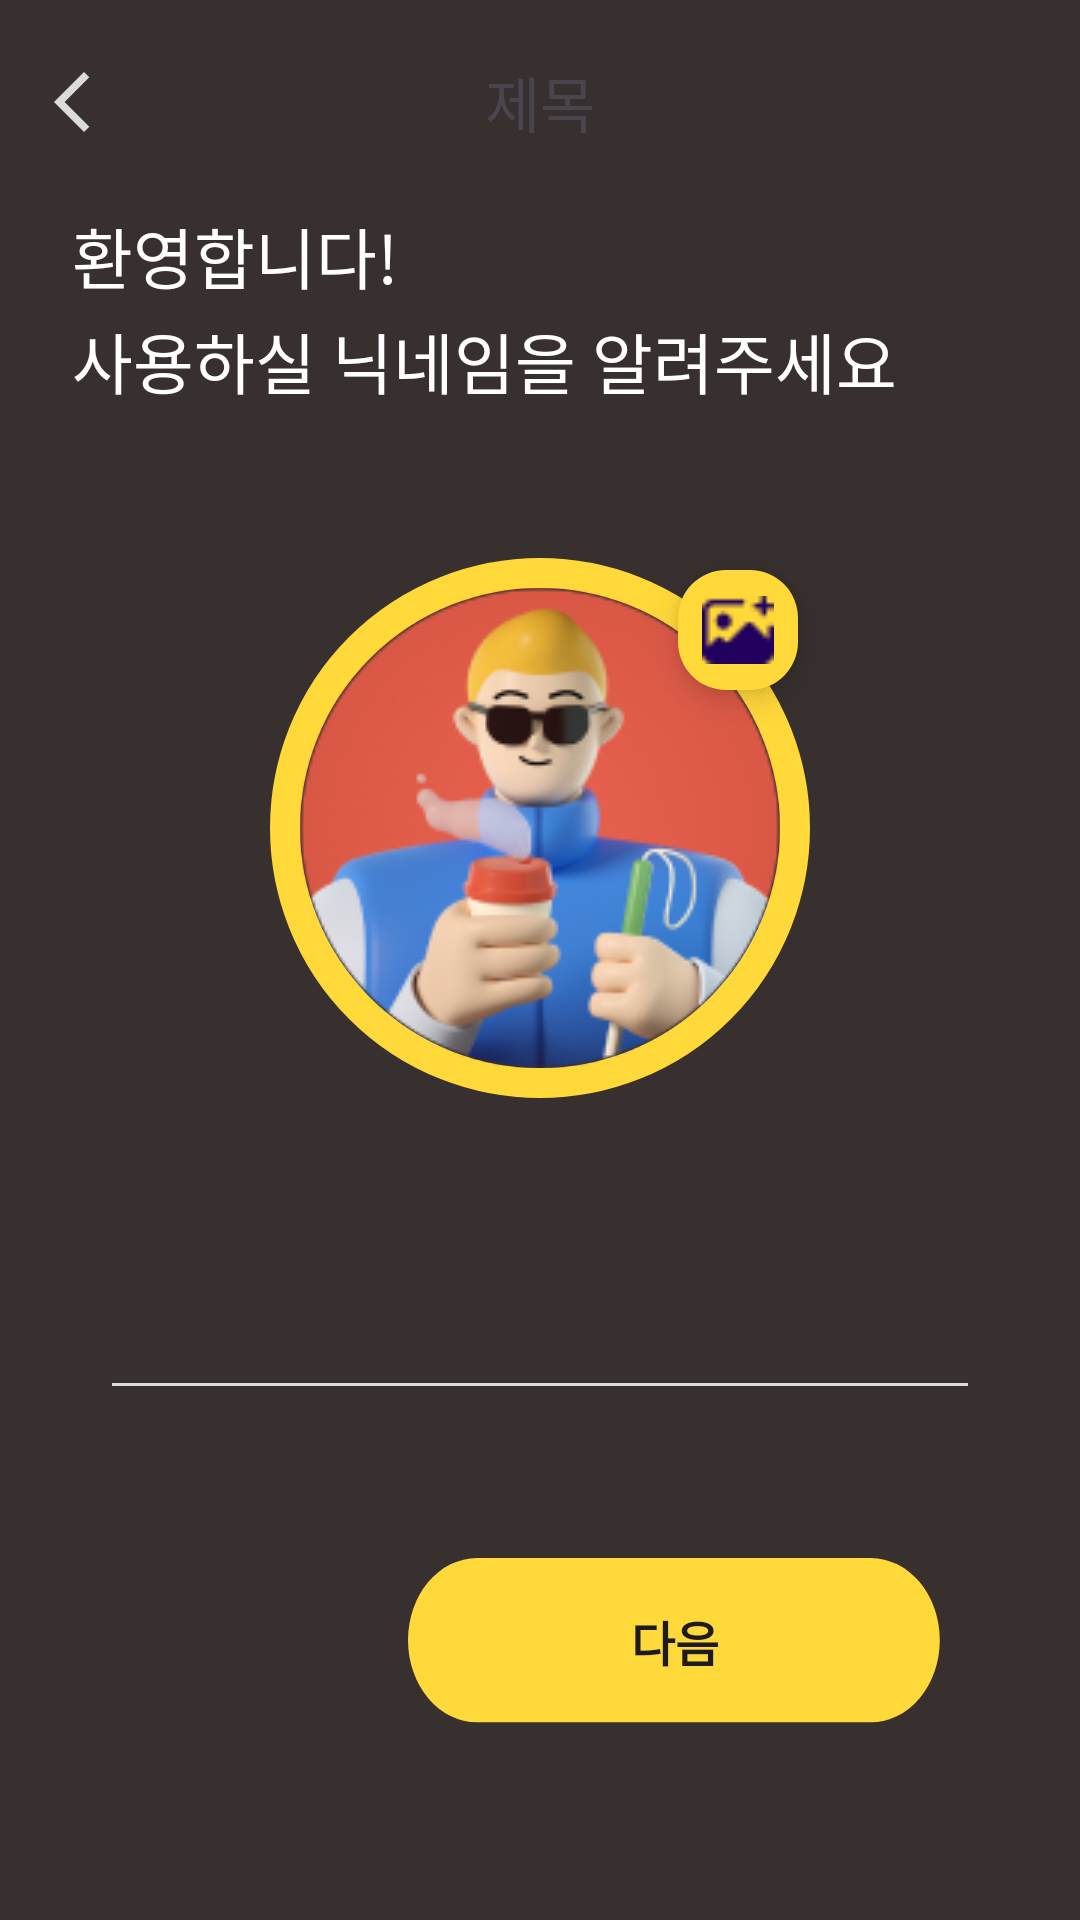

Screen size 1080px×1920px. Icon name, then its center in pixels as point (x, y):
arrow back: point (71, 102)
